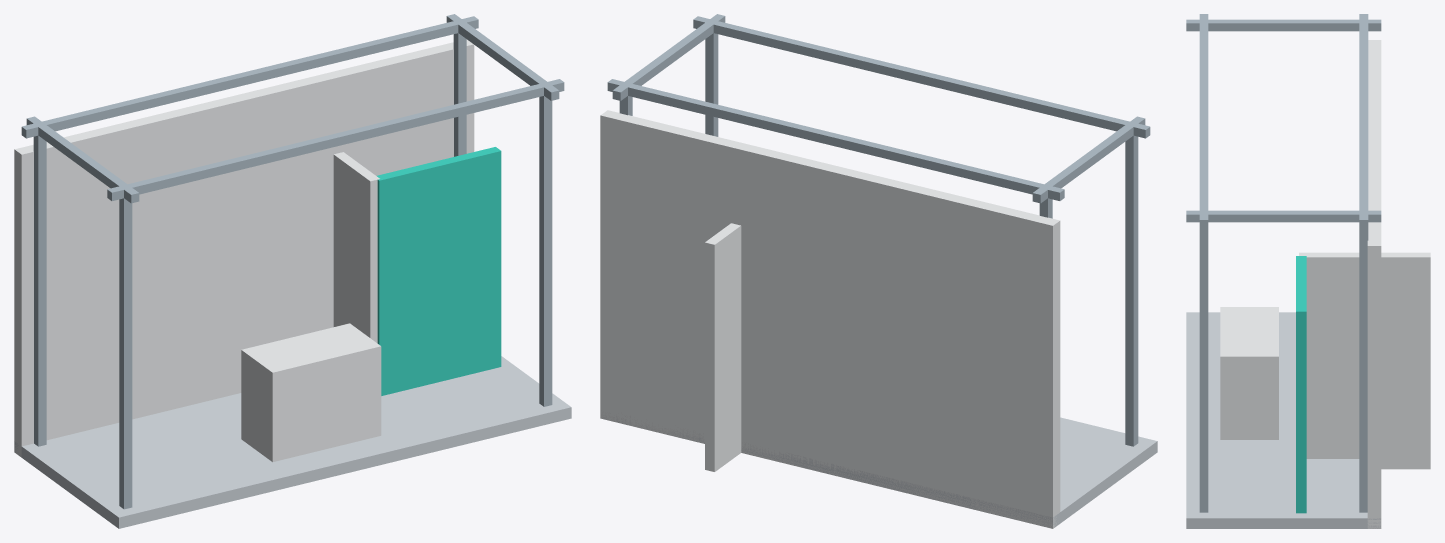
3 renders of one model, left to right at view 1: azimuth 30°, elevation 25°; view 2: azimuth 150°, elevation 25°; view 3: azimuth 270°, elevation 25°, orthographic. The views are drawn at different scales.
Visible parts, largest first — view 1: Exhibition Booth Concept; view 2: Exhibition Booth Concept; view 3: Exhibition Booth Concept.
Part boxes in pixels (x1,y1,x2,y2): Exhibition Booth Concept: (14, 14, 571, 528); Exhibition Booth Concept: (600, 14, 1157, 528); Exhibition Booth Concept: (1186, 14, 1430, 528).
Bounding box in the file's own units: 5 × 3.49 × 2.5.
